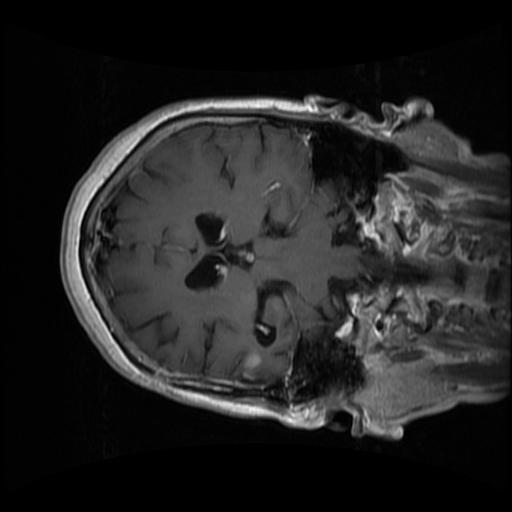glioma: (232, 351, 261, 385)
